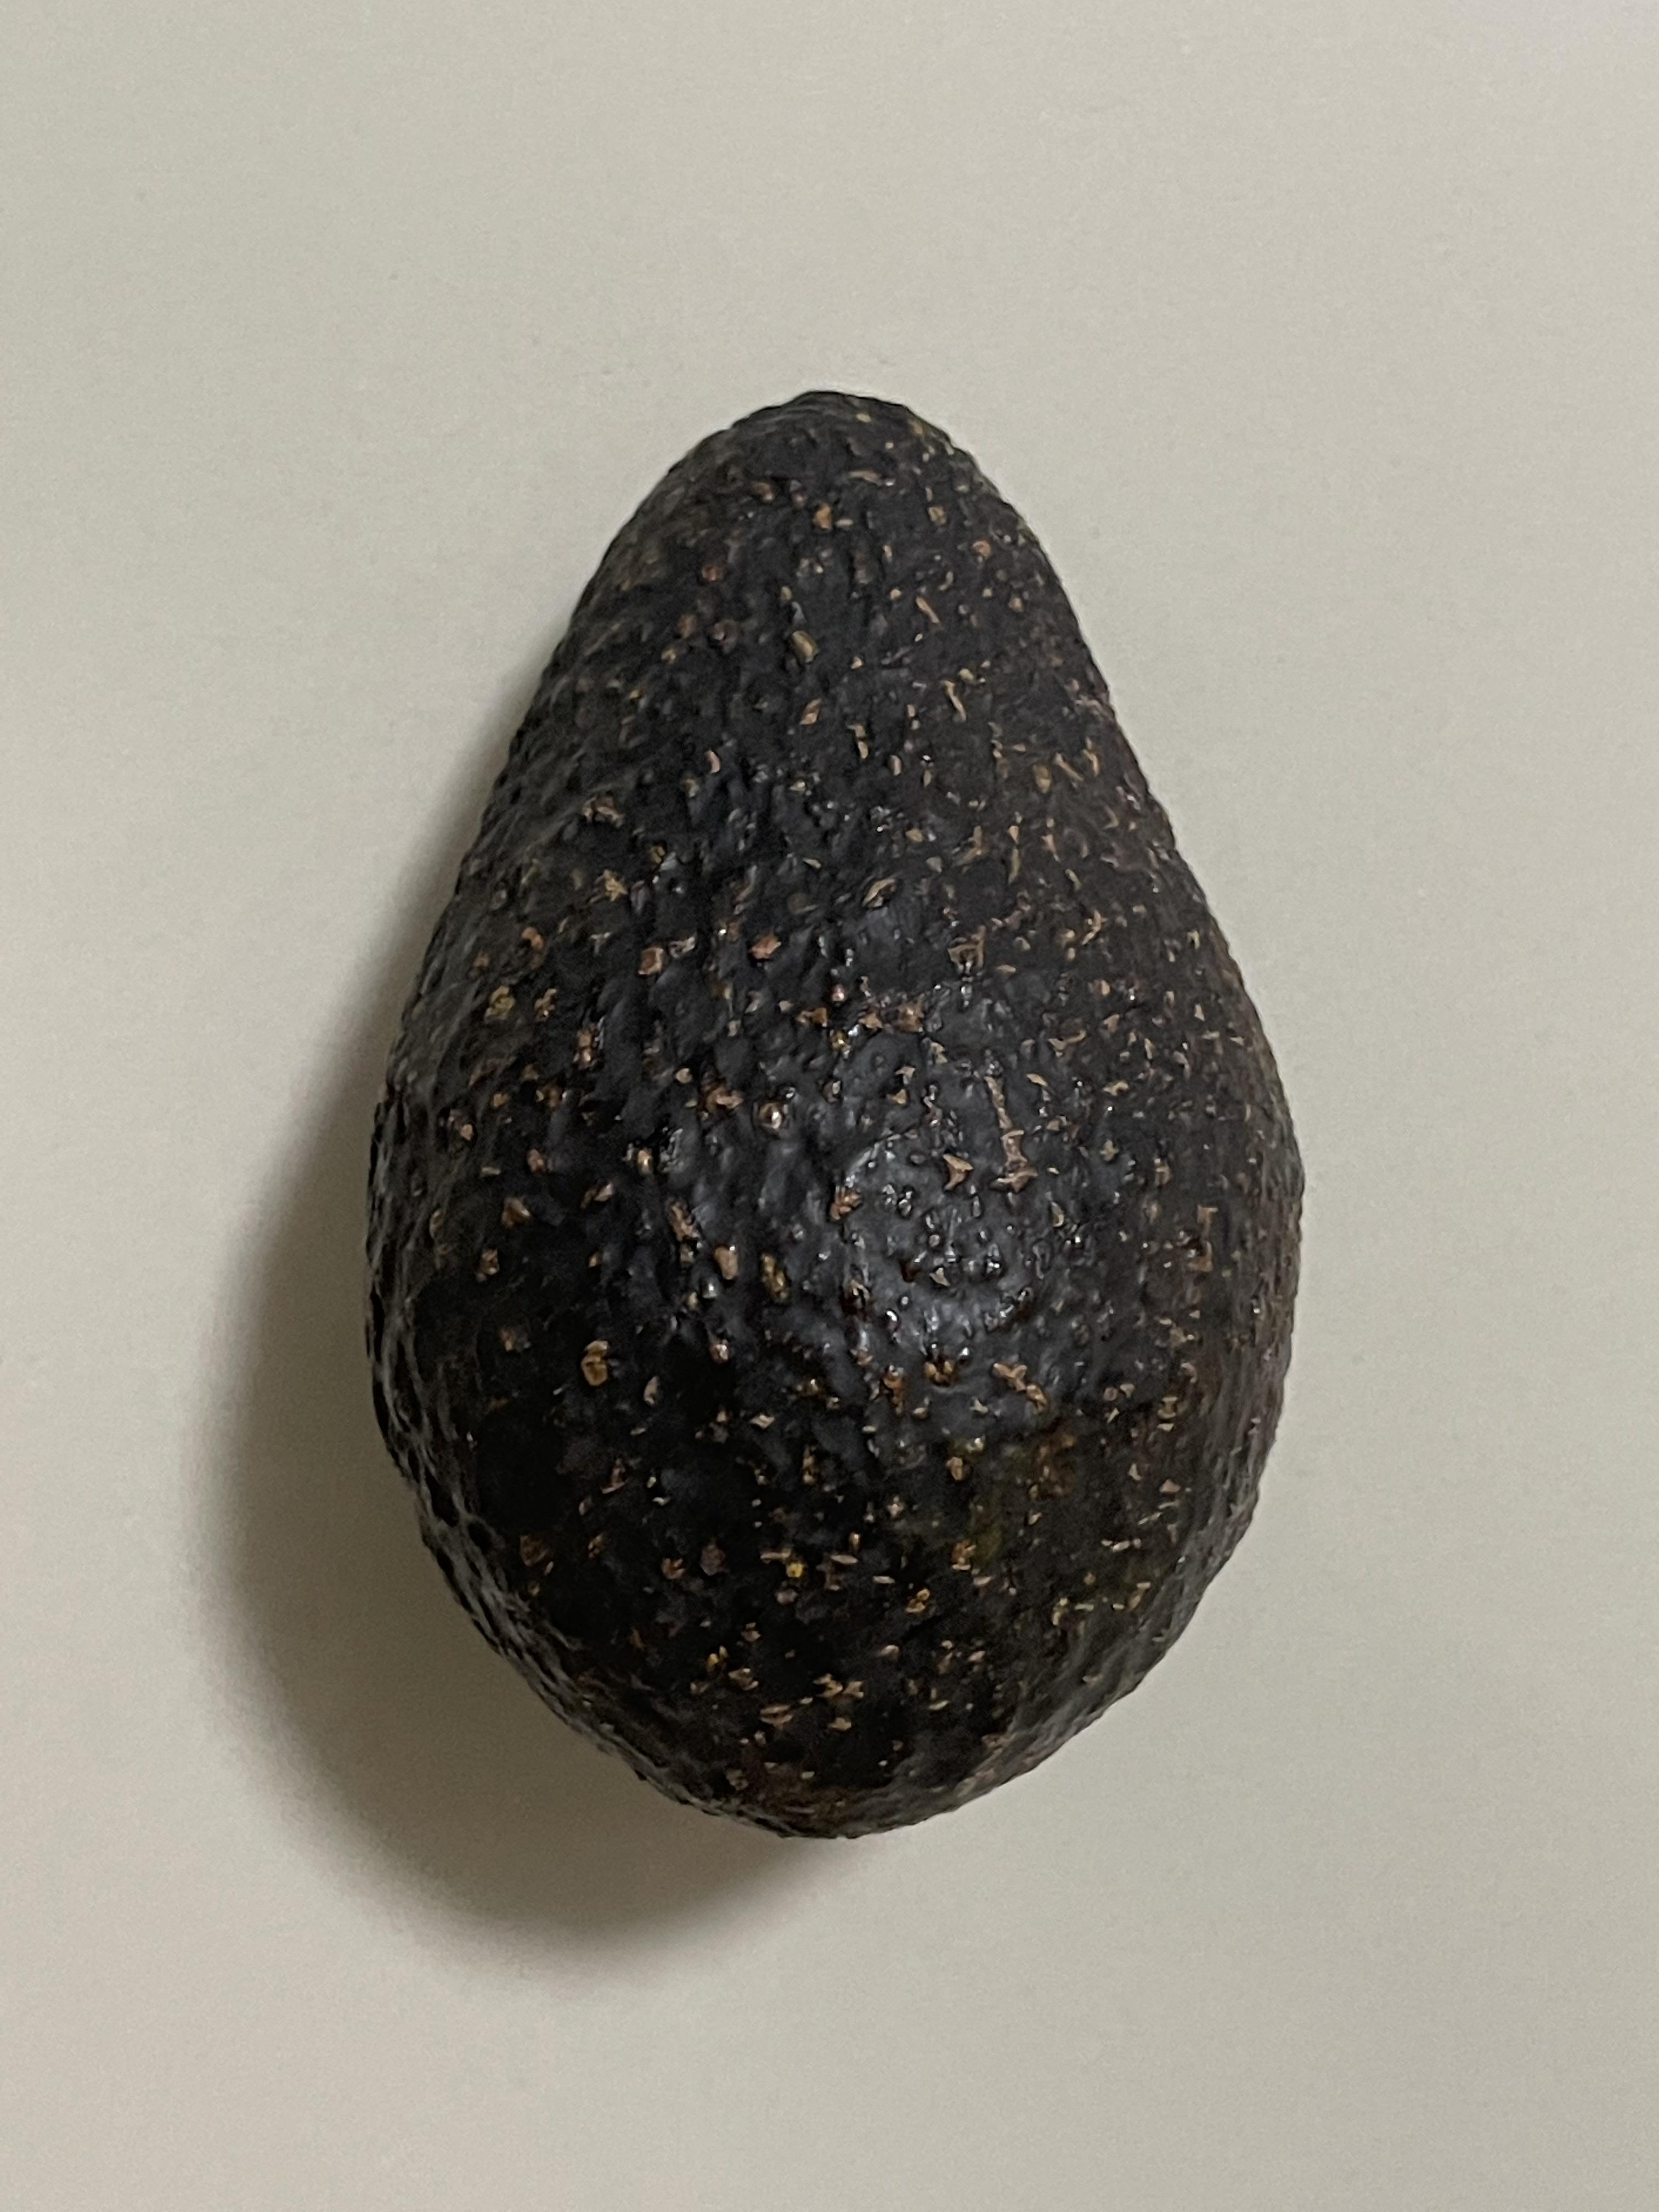Level2: (345, 362, 1321, 1864)
